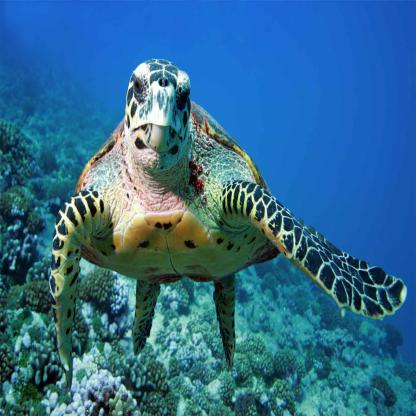turtle: (122, 47, 195, 179)
